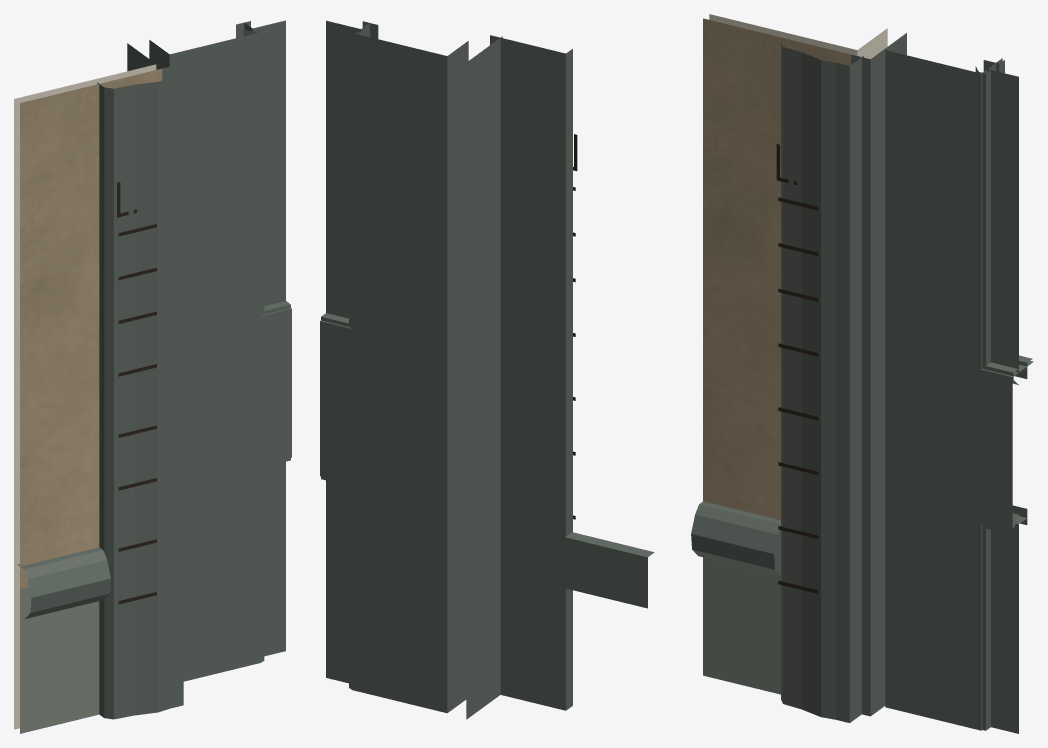
The model's file is doorframe_review.glb.
3 views of the same model, side by side, from view 1: azimuth 30°, elevation 25°; view 2: azimuth 150°, elevation 25°; view 3: azimuth 330°, elevation 25° (orthographic). The views are drawn at different scales.
Parts seen in each view (by area): view 1: 门厅·墙面、地面与线脚, 二楼·储物间门（锁着）, 主体结构-col, 二楼·储物间门框上的身高刻痕（L.）, 门厅·锁着的门的贴脸板; view 2: 二楼·储物间门（锁着）, 门厅·墙面、地面与线脚, 门厅·锁着的门的贴脸板; view 3: 门厅·墙面、地面与线脚, 二楼·储物间门（锁着）, 门厅·锁着的门的贴脸板, 二楼·储物间门框上的身高刻痕（L.）, 主体结构-col.
Boxes of the visible parts, x1,y1,x2,y2 form: 门厅·墙面、地面与线脚: (17, 68, 183, 733); 二楼·储物间门（锁着）: (149, 20, 291, 681); 主体结构-col: (14, 64, 156, 729); 二楼·储物间门框上的身高刻痕（L.）: (117, 182, 156, 604); 门厅·锁着的门的贴脸板: (127, 43, 180, 80); 二楼·储物间门（锁着）: (320, 20, 468, 713); 门厅·墙面、地面与线脚: (490, 35, 654, 710); 门厅·锁着的门的贴脸板: (466, 36, 502, 719); 门厅·墙面、地面与线脚: (691, 18, 863, 722); 二楼·储物间门（锁着）: (885, 50, 1033, 733); 门厅·锁着的门的贴脸板: (851, 33, 906, 716); 二楼·储物间门框上的身高刻痕（L.）: (776, 144, 818, 593); 主体结构-col: (709, 14, 887, 59).
Bounding box in the file's own units: 0.34 × 0.72 × 0.0995.
5 materials, 1 textured.
